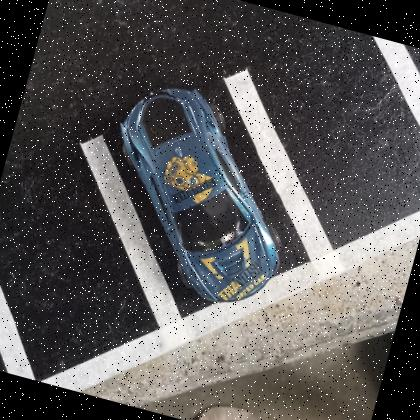Car: (118, 89, 279, 304)
